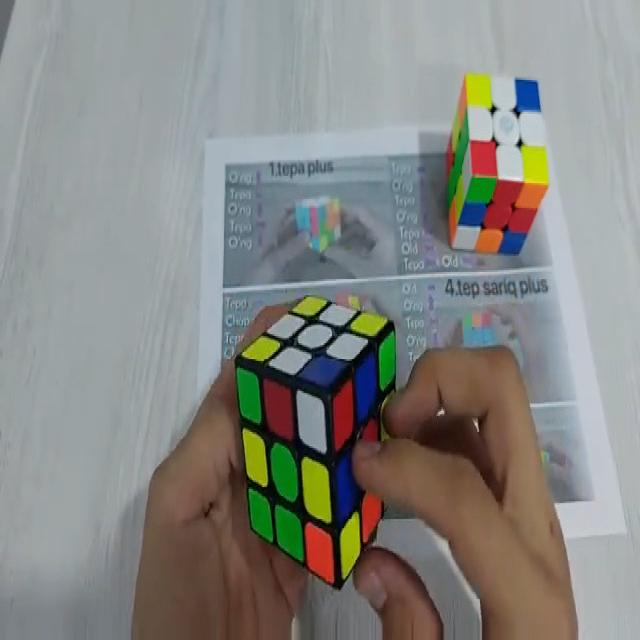Rub: (236, 292, 400, 588), (446, 68, 552, 255)
